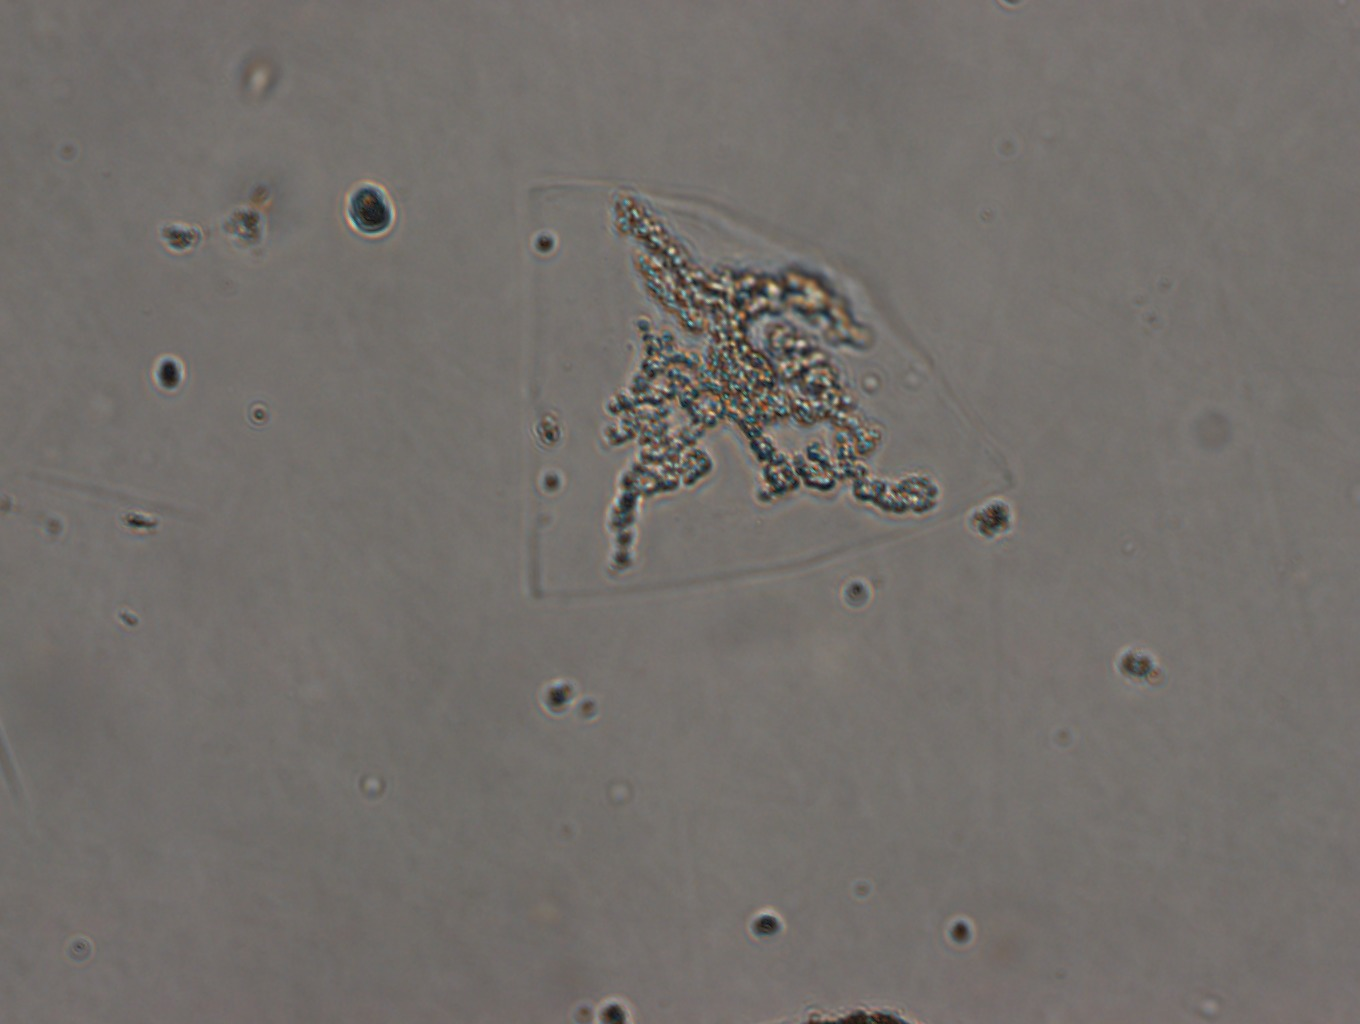helicotheca: (522, 183, 1026, 606)
